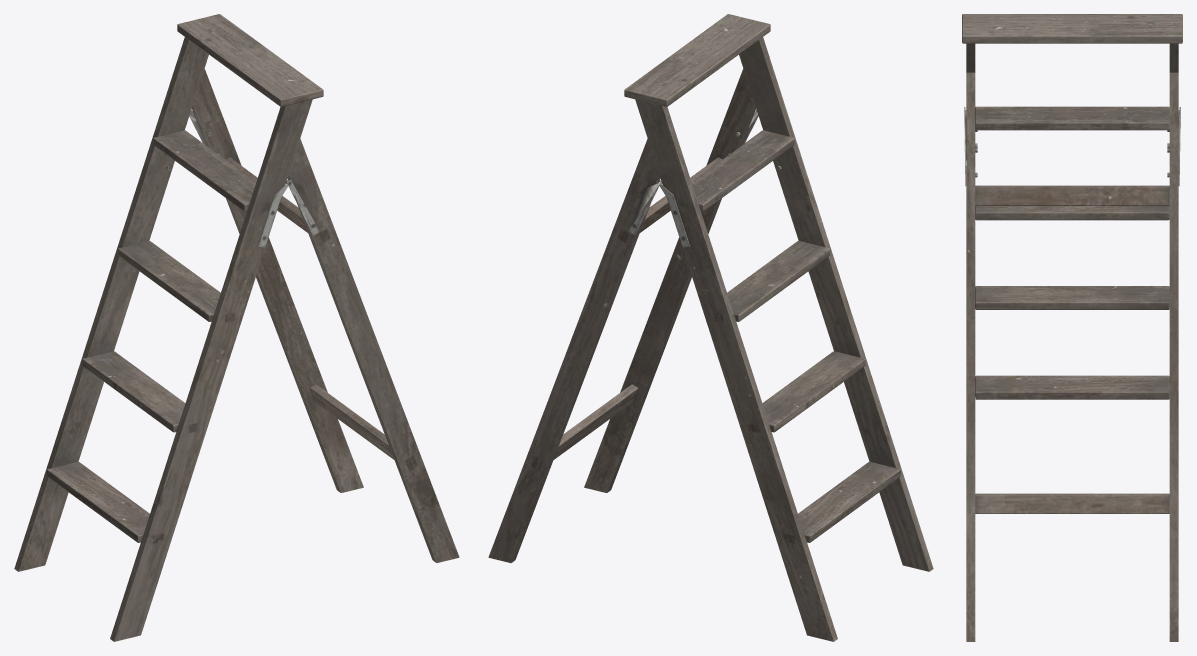
The model's file is wooden_ladder.glb.
3 views of the same model, side by side, from view 1: azimuth 30°, elevation 25°; view 2: azimuth 150°, elevation 25°; view 3: azimuth 270°, elevation 25° (orthographic). The views are drawn at different scales.
Visible parts, largest first — view 1: wooden_ladder_supports; view 2: wooden_ladder_supports; view 3: wooden_ladder_supports.
Part boxes in pixels (x1,y1,x2,y2): wooden_ladder_supports: (14,14,459,641); wooden_ladder_supports: (488,14,933,641); wooden_ladder_supports: (962,14,1182,641).
Bounding box in the file's own units: 0.9591 × 1.33 × 0.5.
1 material, 1 textured.
